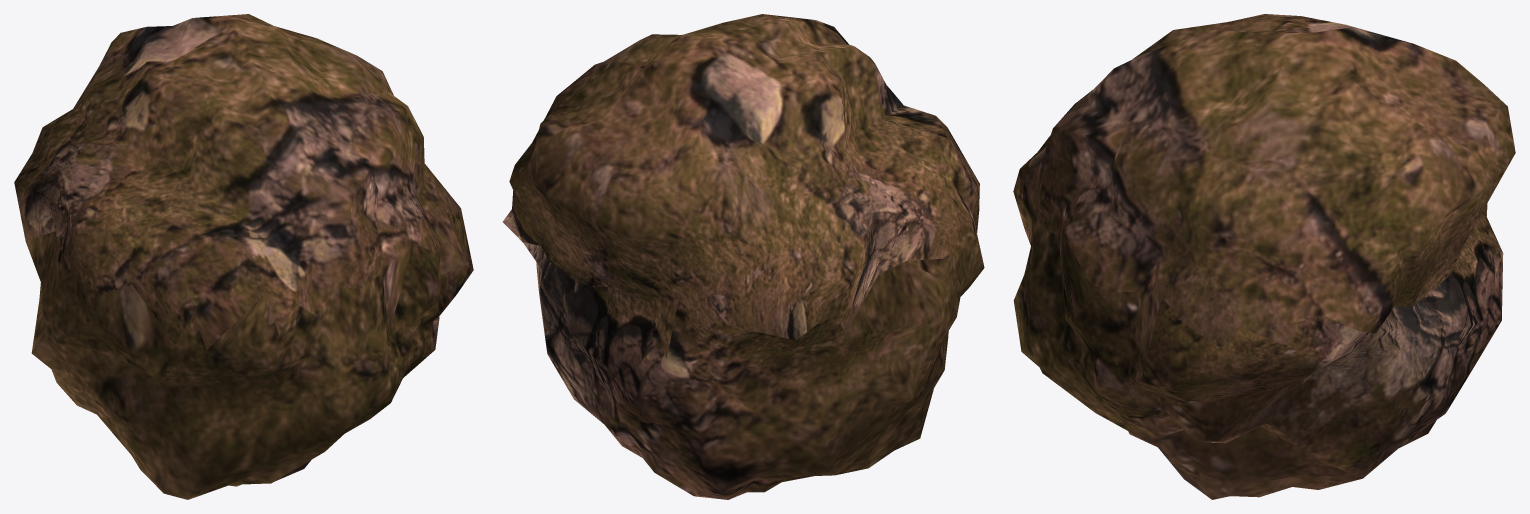
Rendered from rock2.fbx.
3 views of the same model, side by side, from view 1: azimuth 30°, elevation 25°; view 2: azimuth 150°, elevation 25°; view 3: azimuth 270°, elevation 25° (orthographic). The views are drawn at different scales.
Visible parts, largest first — view 1: Rock.002; view 2: Rock.002; view 3: Rock.002.
Part boxes in pixels (x1,y1,x2,y2): Rock.002: [14, 14, 473, 499]; Rock.002: [502, 14, 984, 499]; Rock.002: [1013, 14, 1515, 499].
Size of the model in its own units: 290 by 303 by 296.
Materials: 1 (1 with a texture image).
